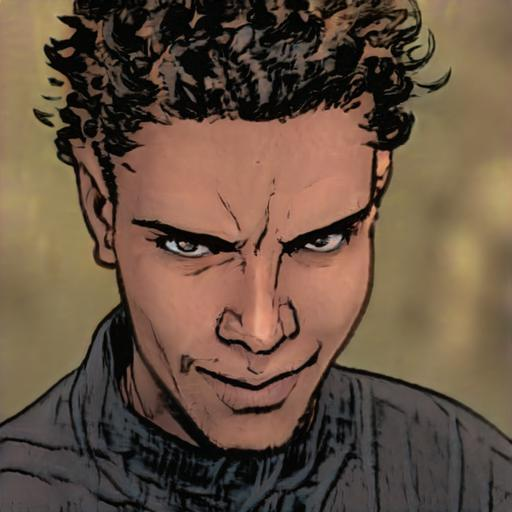NoHuman: (0, 5, 512, 512)
